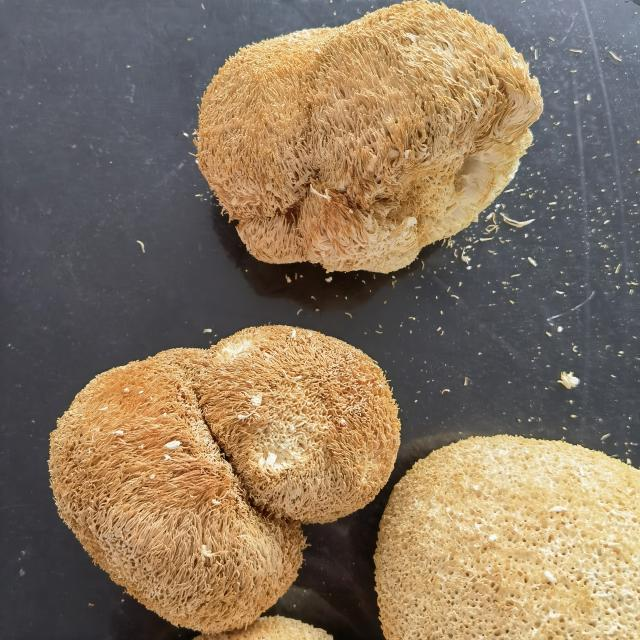Hericium erinaceus: (50, 323, 404, 632), (194, 0, 538, 282), (378, 431, 640, 640)
